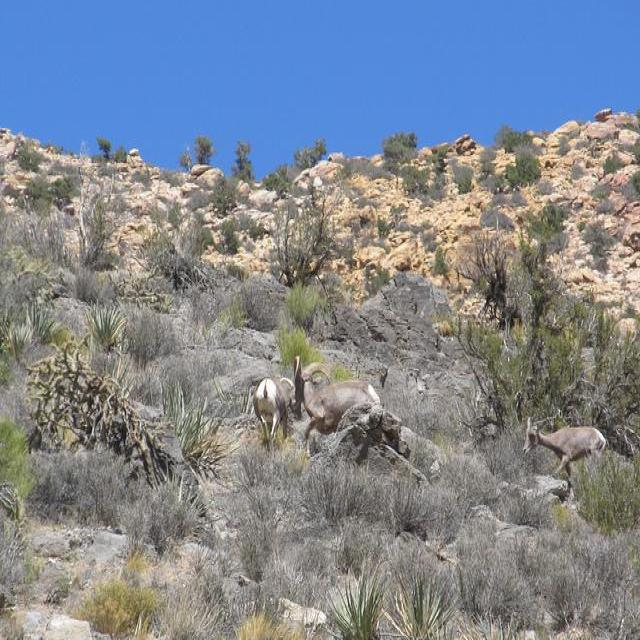Sheep: (289, 354, 386, 453), (524, 418, 606, 508), (254, 377, 302, 450)
